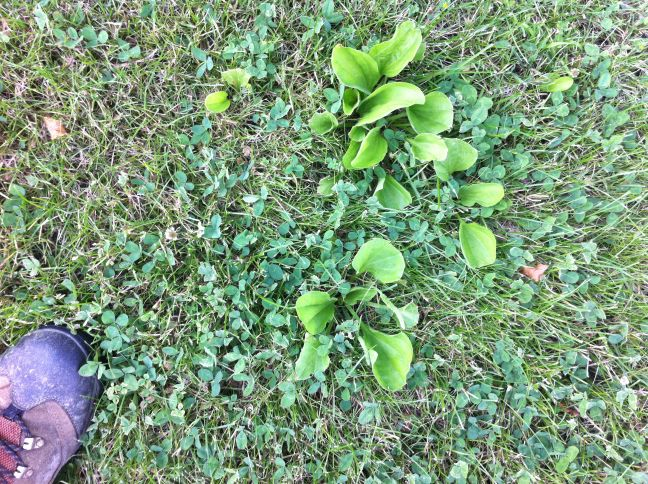weed1: (310, 15, 456, 169), (290, 236, 420, 393), (428, 131, 508, 273), (202, 62, 253, 111)
